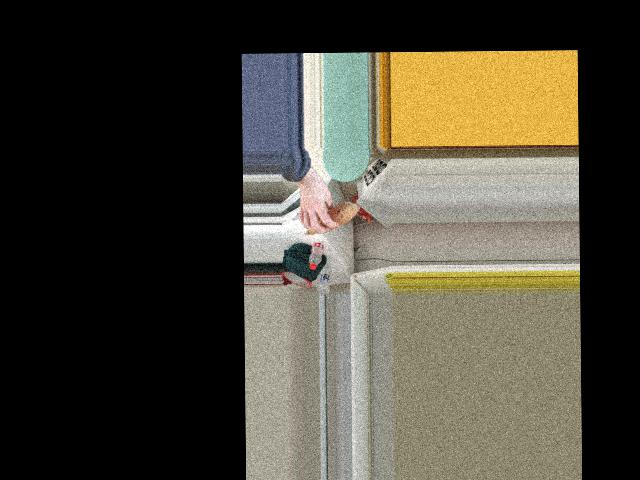sweet_potato: (301, 202, 358, 235)
